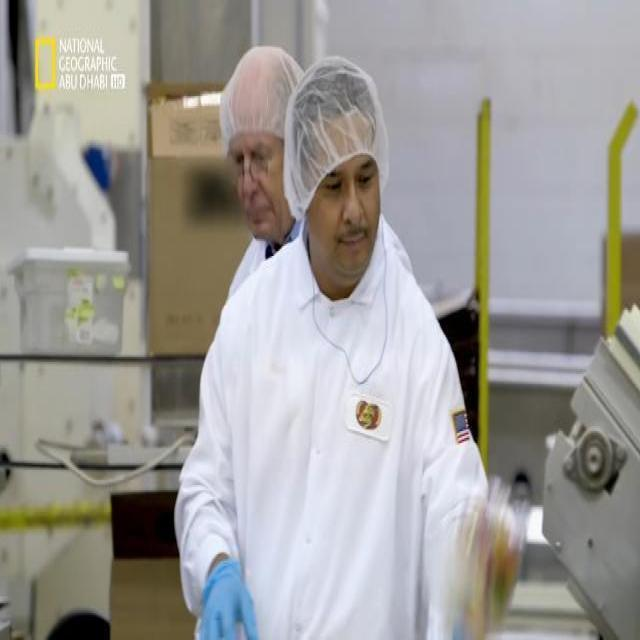gloved_hand: (189, 527, 266, 640)
